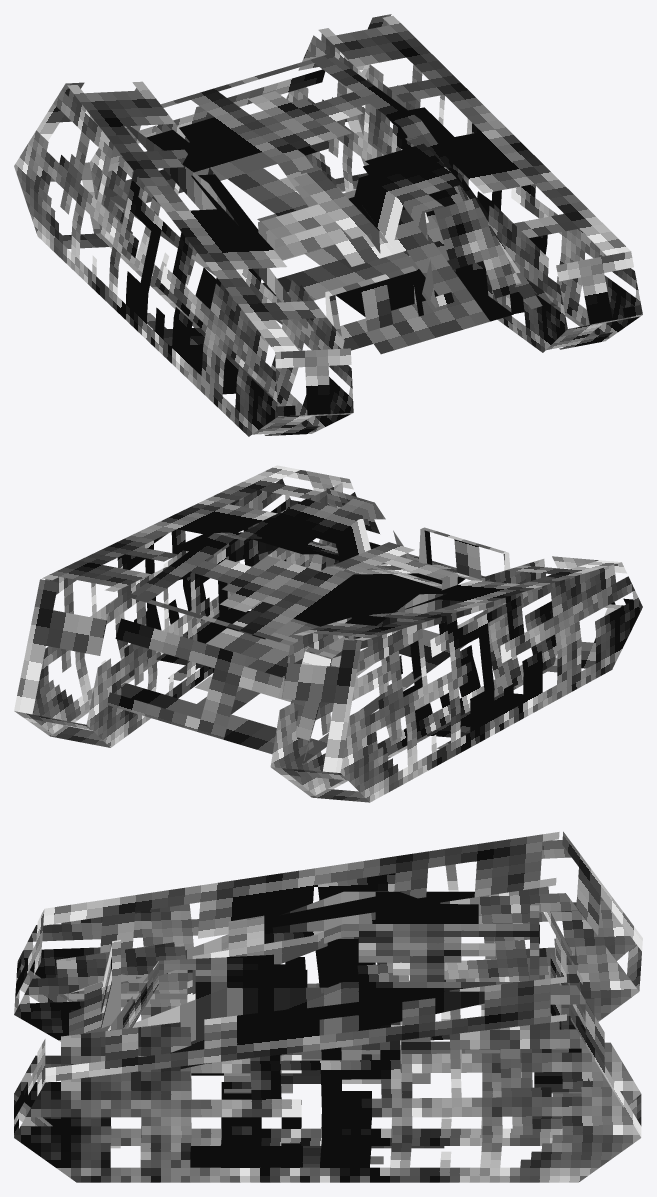
File: hunter_wreck.glb
The picture shows the model from 3 angles, top to bottom: view 1: azimuth 30°, elevation 25°; view 2: azimuth 150°, elevation 25°; view 3: azimuth 270°, elevation 25°; orthographic projection. The views are drawn at different scales.
Visible parts, largest first — view 1: HunterDam; view 2: HunterDam; view 3: HunterDam.
Boxes of the visible parts, x1=… form: HunterDam: x1=14, y1=14, x2=642, y2=436; HunterDam: x1=14, y1=465, x2=642, y2=802; HunterDam: x1=14, y1=831, x2=642, y2=1182.
Bounding box in the file's own units: 3.75 × 1.88 × 5.11.
1 material, 1 textured.
